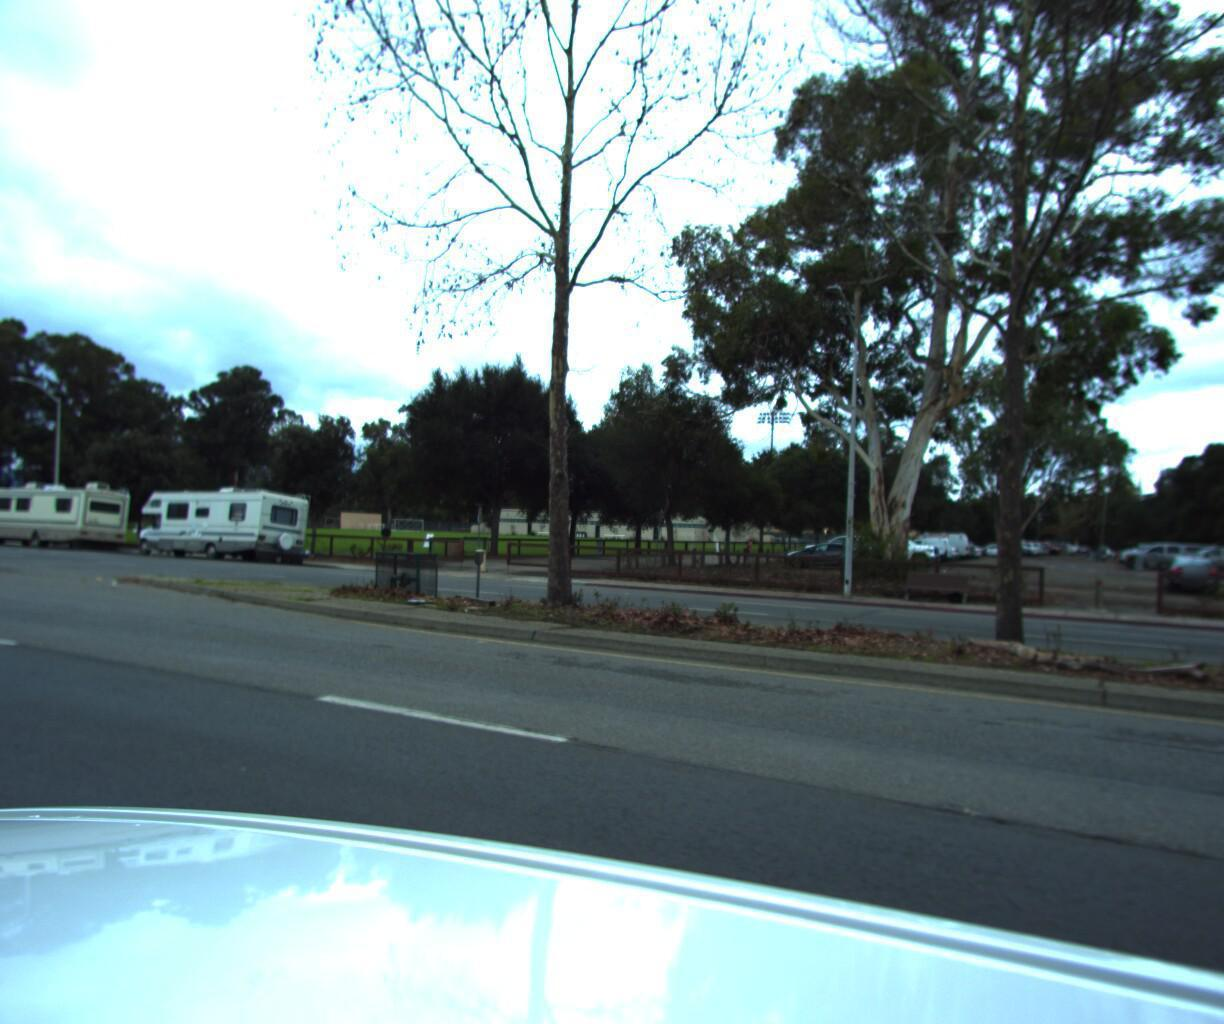other_vehicle: (127, 485, 319, 562), (0, 482, 136, 548)
